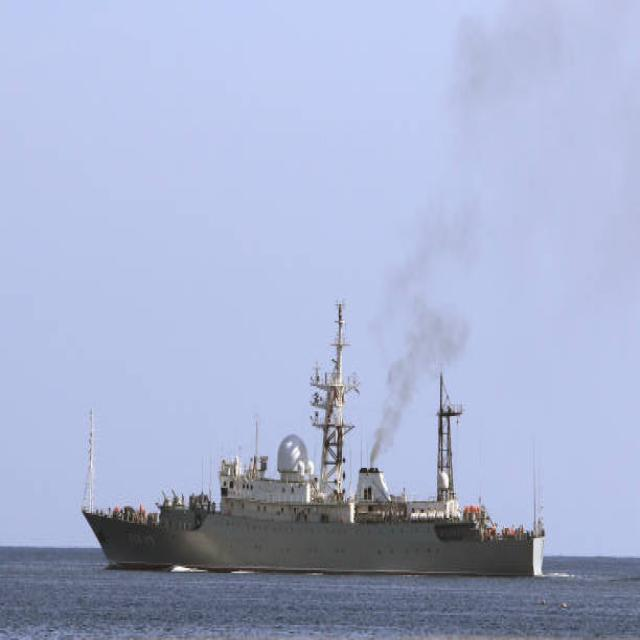Military: (79, 299, 546, 578)
